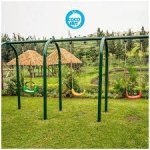Uncultivated: (3, 45, 148, 148)
